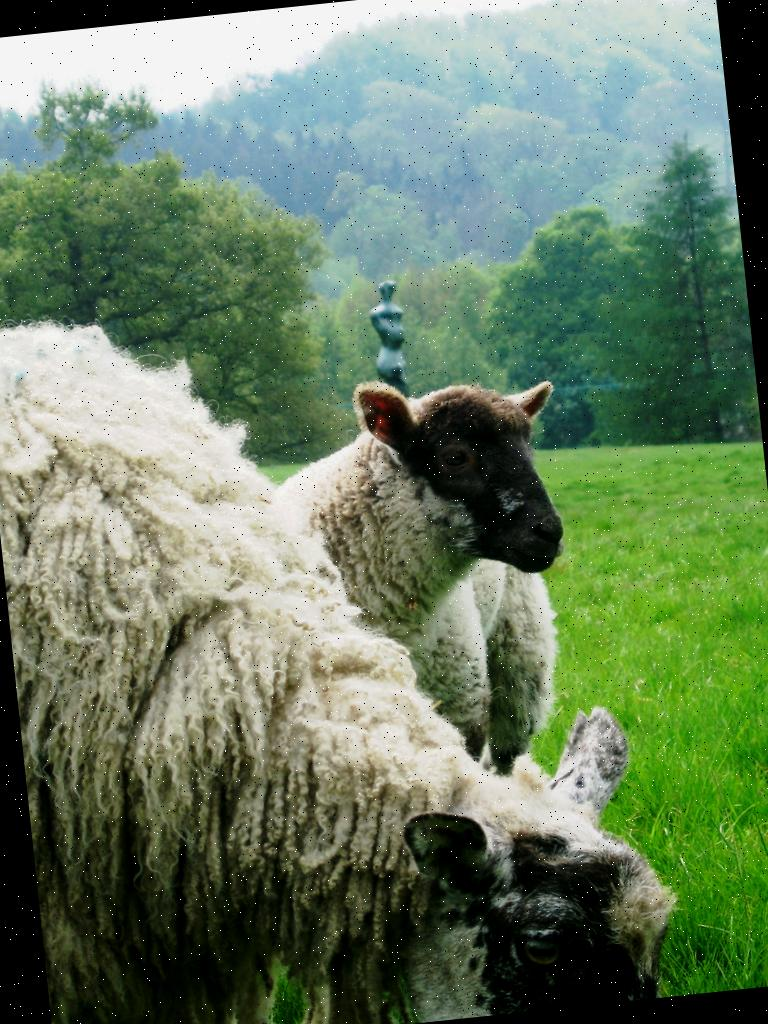Sheep: (0, 248, 689, 1024)
